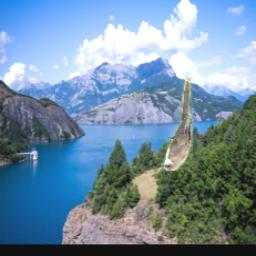Cuckoo: (160, 78, 192, 171)
